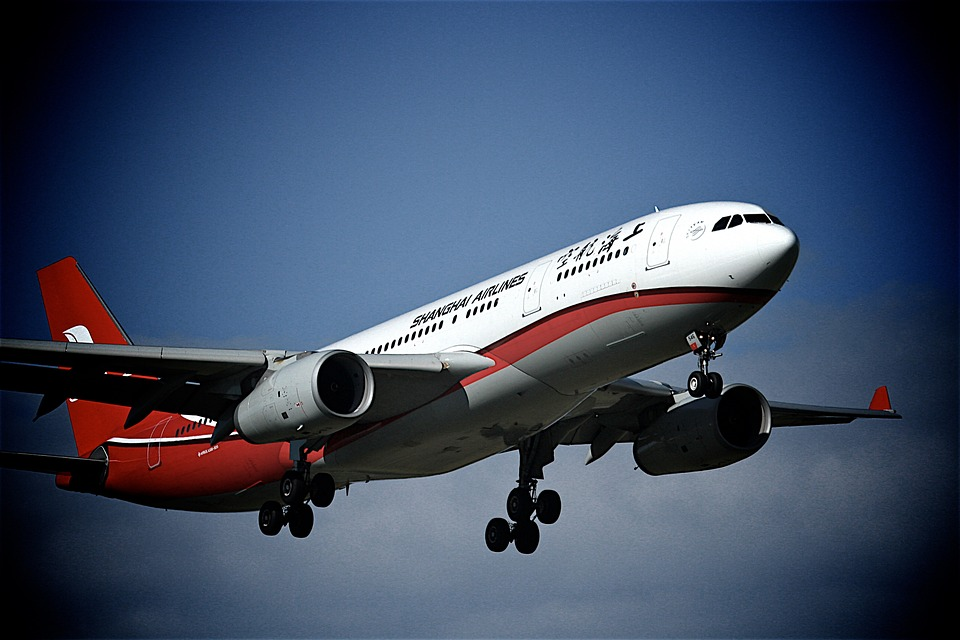aeroplane: (3, 199, 910, 555)
